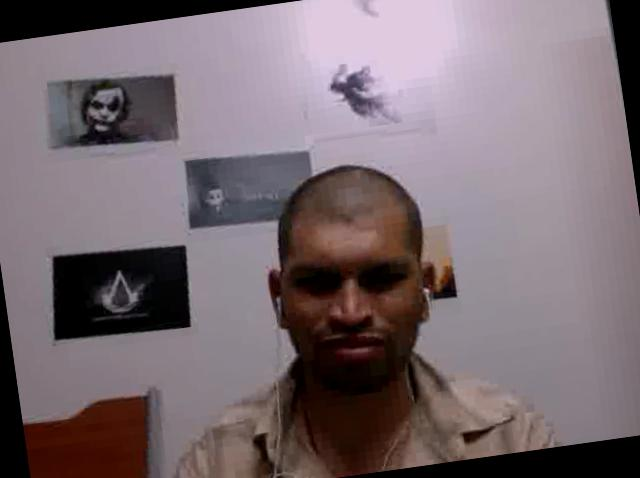bingung: (277, 201, 440, 393)
